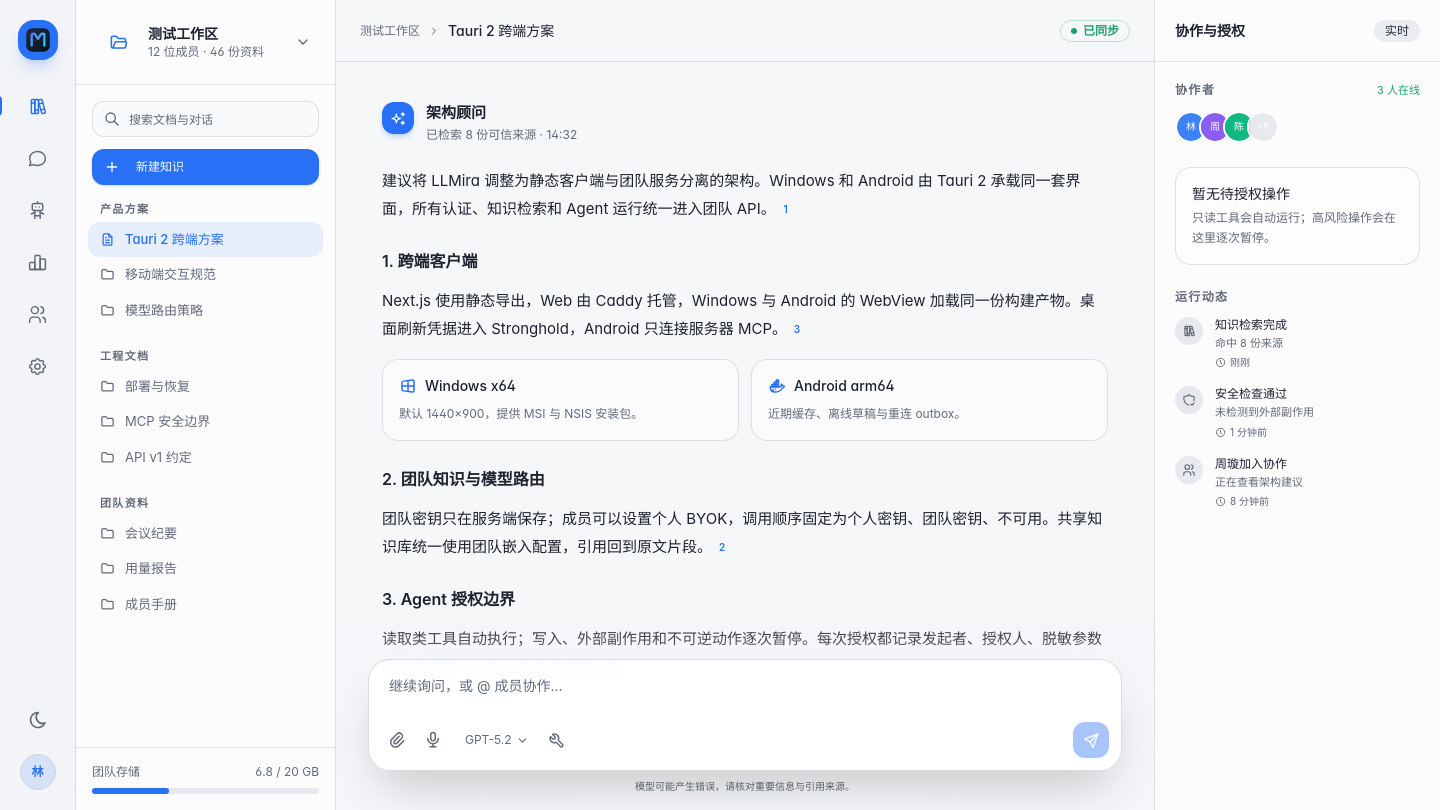
it: TeamWorkbench › submits a team run and renders resumable stream events
In the text box named "向团队智能体提问": [745, 692] box [377,668,1113,716], type "测试实时回答"
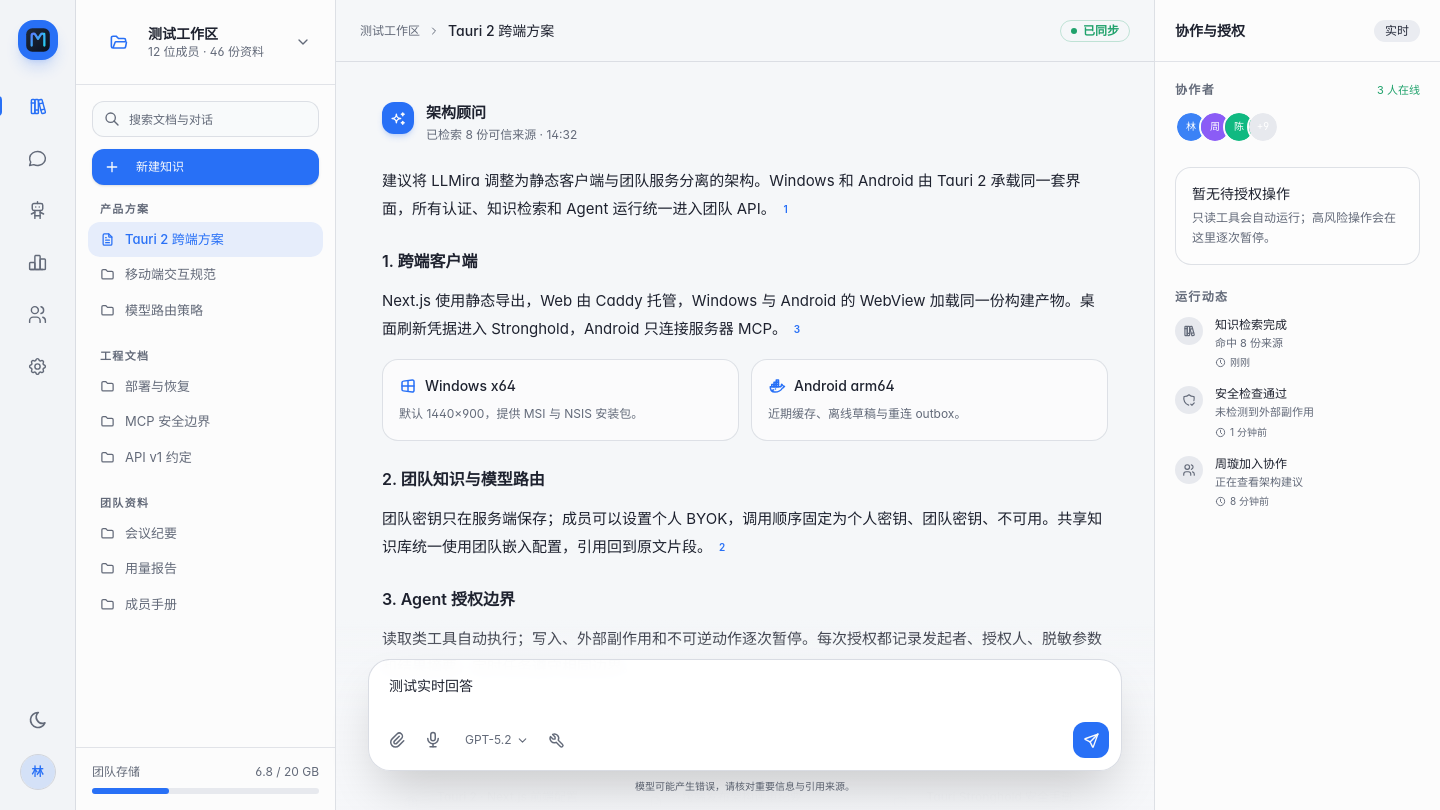
Click the button named "发送消息": [1091, 740] box [1073,722,1109,758]
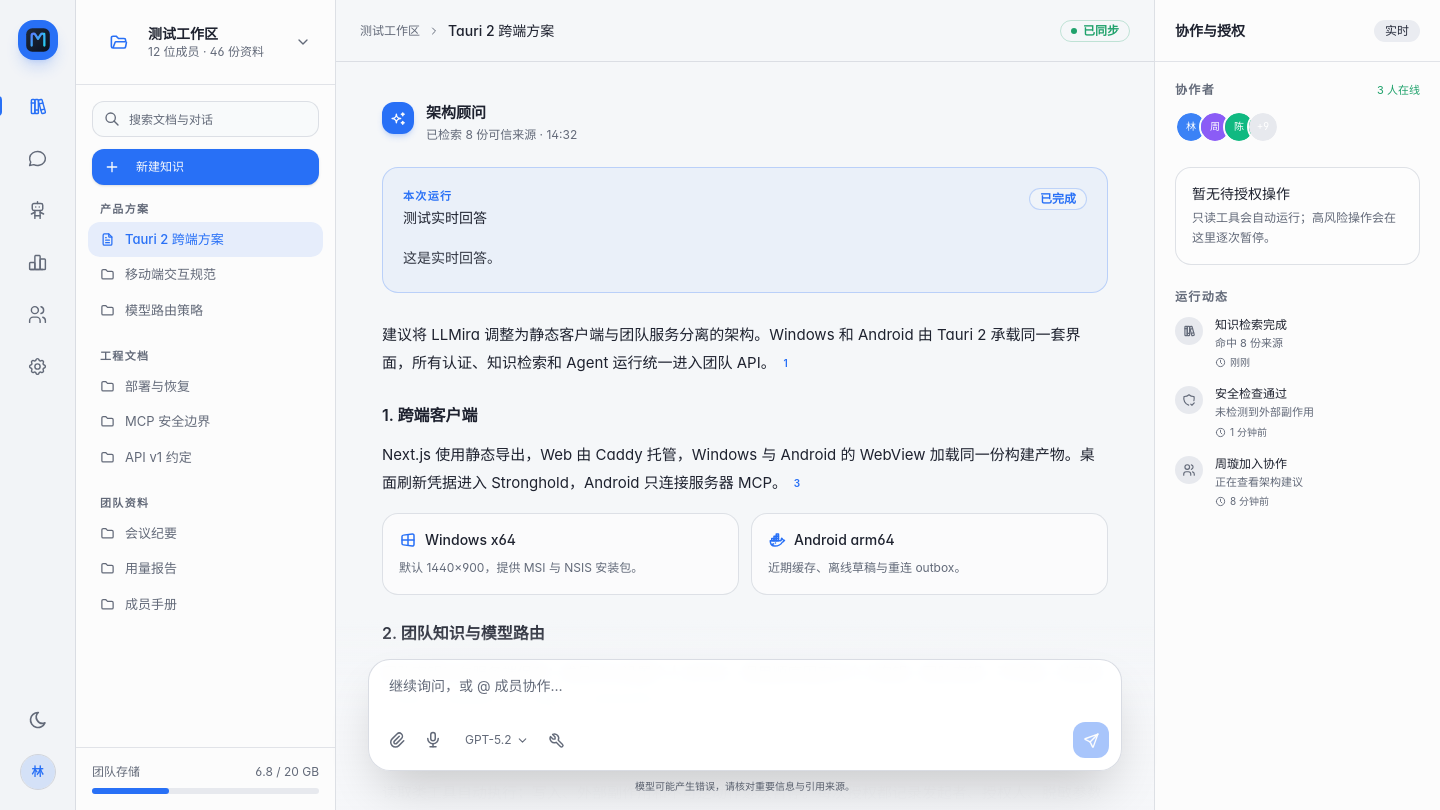
Expected: the text "这是实时回答。" is shown, [403,249,501,266]
Expected: the text "已完成" is shown, [1029,188,1087,210]
